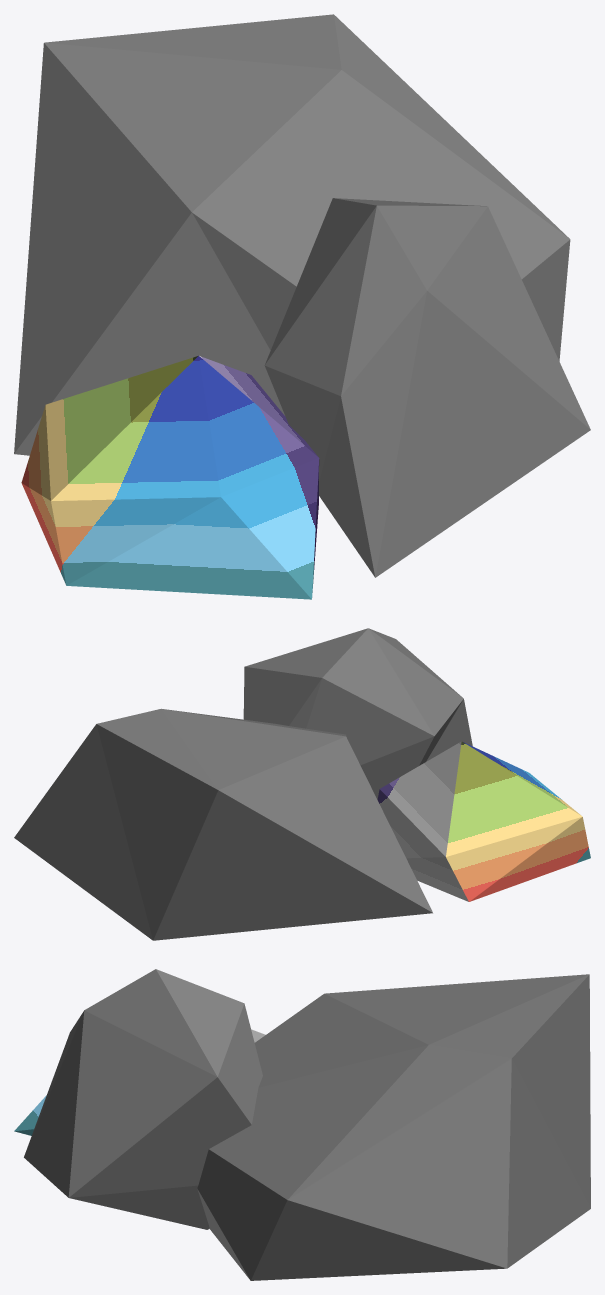
The model's file is rock4.fbx.
3 views of the same model, one above another, from view 1: azimuth 30°, elevation 25°; view 2: azimuth 150°, elevation 25°; view 3: azimuth 270°, elevation 25° (orthographic). The views are drawn at different scales.
Visible parts, largest first — view 1: Cube; view 2: Cube; view 3: Cube.
Part boxes in pixels (left/top/right/bottom): Cube: left=14, top=14, right=590, bottom=599; Cube: left=14, top=628, right=590, bottom=940; Cube: left=14, top=969, right=590, bottom=1280.
Bounding box in the file's own units: 88.37 × 37.56 × 88.75.
